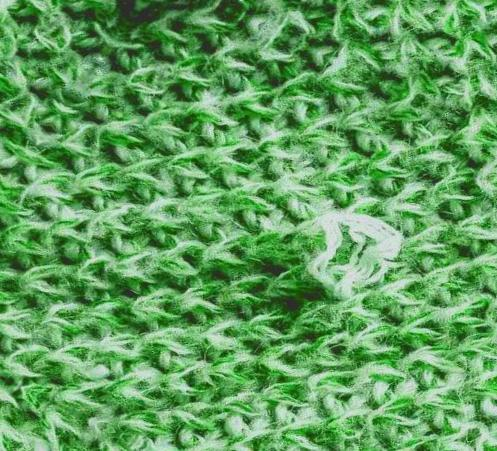snag: (308, 203, 404, 311)
